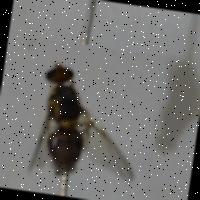Oriental-fruit-fly: (7, 35, 166, 200)
